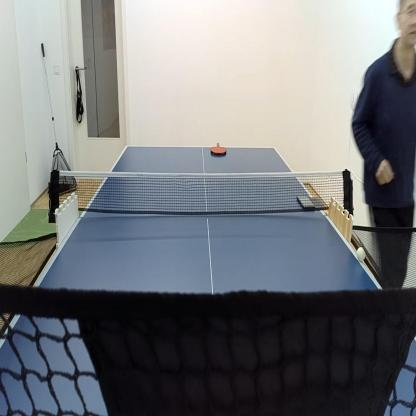Ball: (357, 247, 365, 262)
